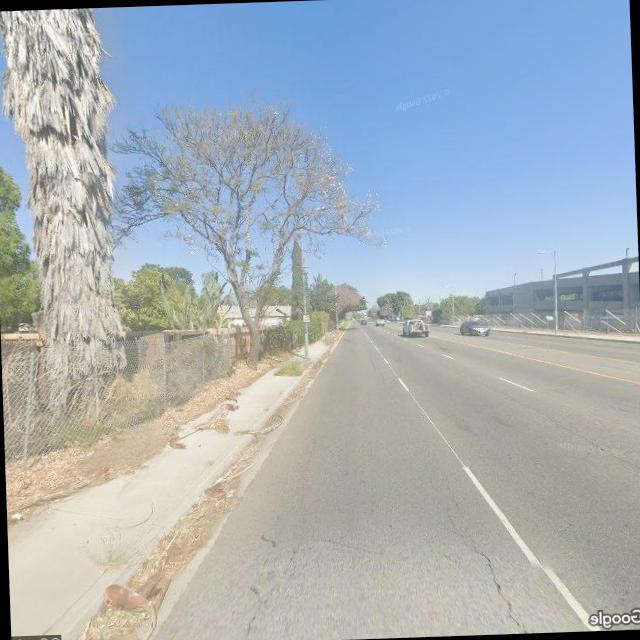crack: (446, 485, 528, 634), (519, 403, 640, 475)
